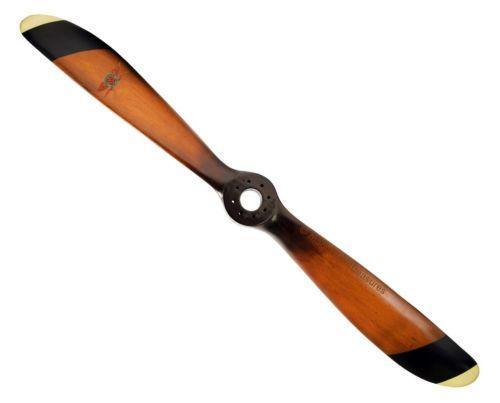Propeller: (16, 11, 486, 392)
